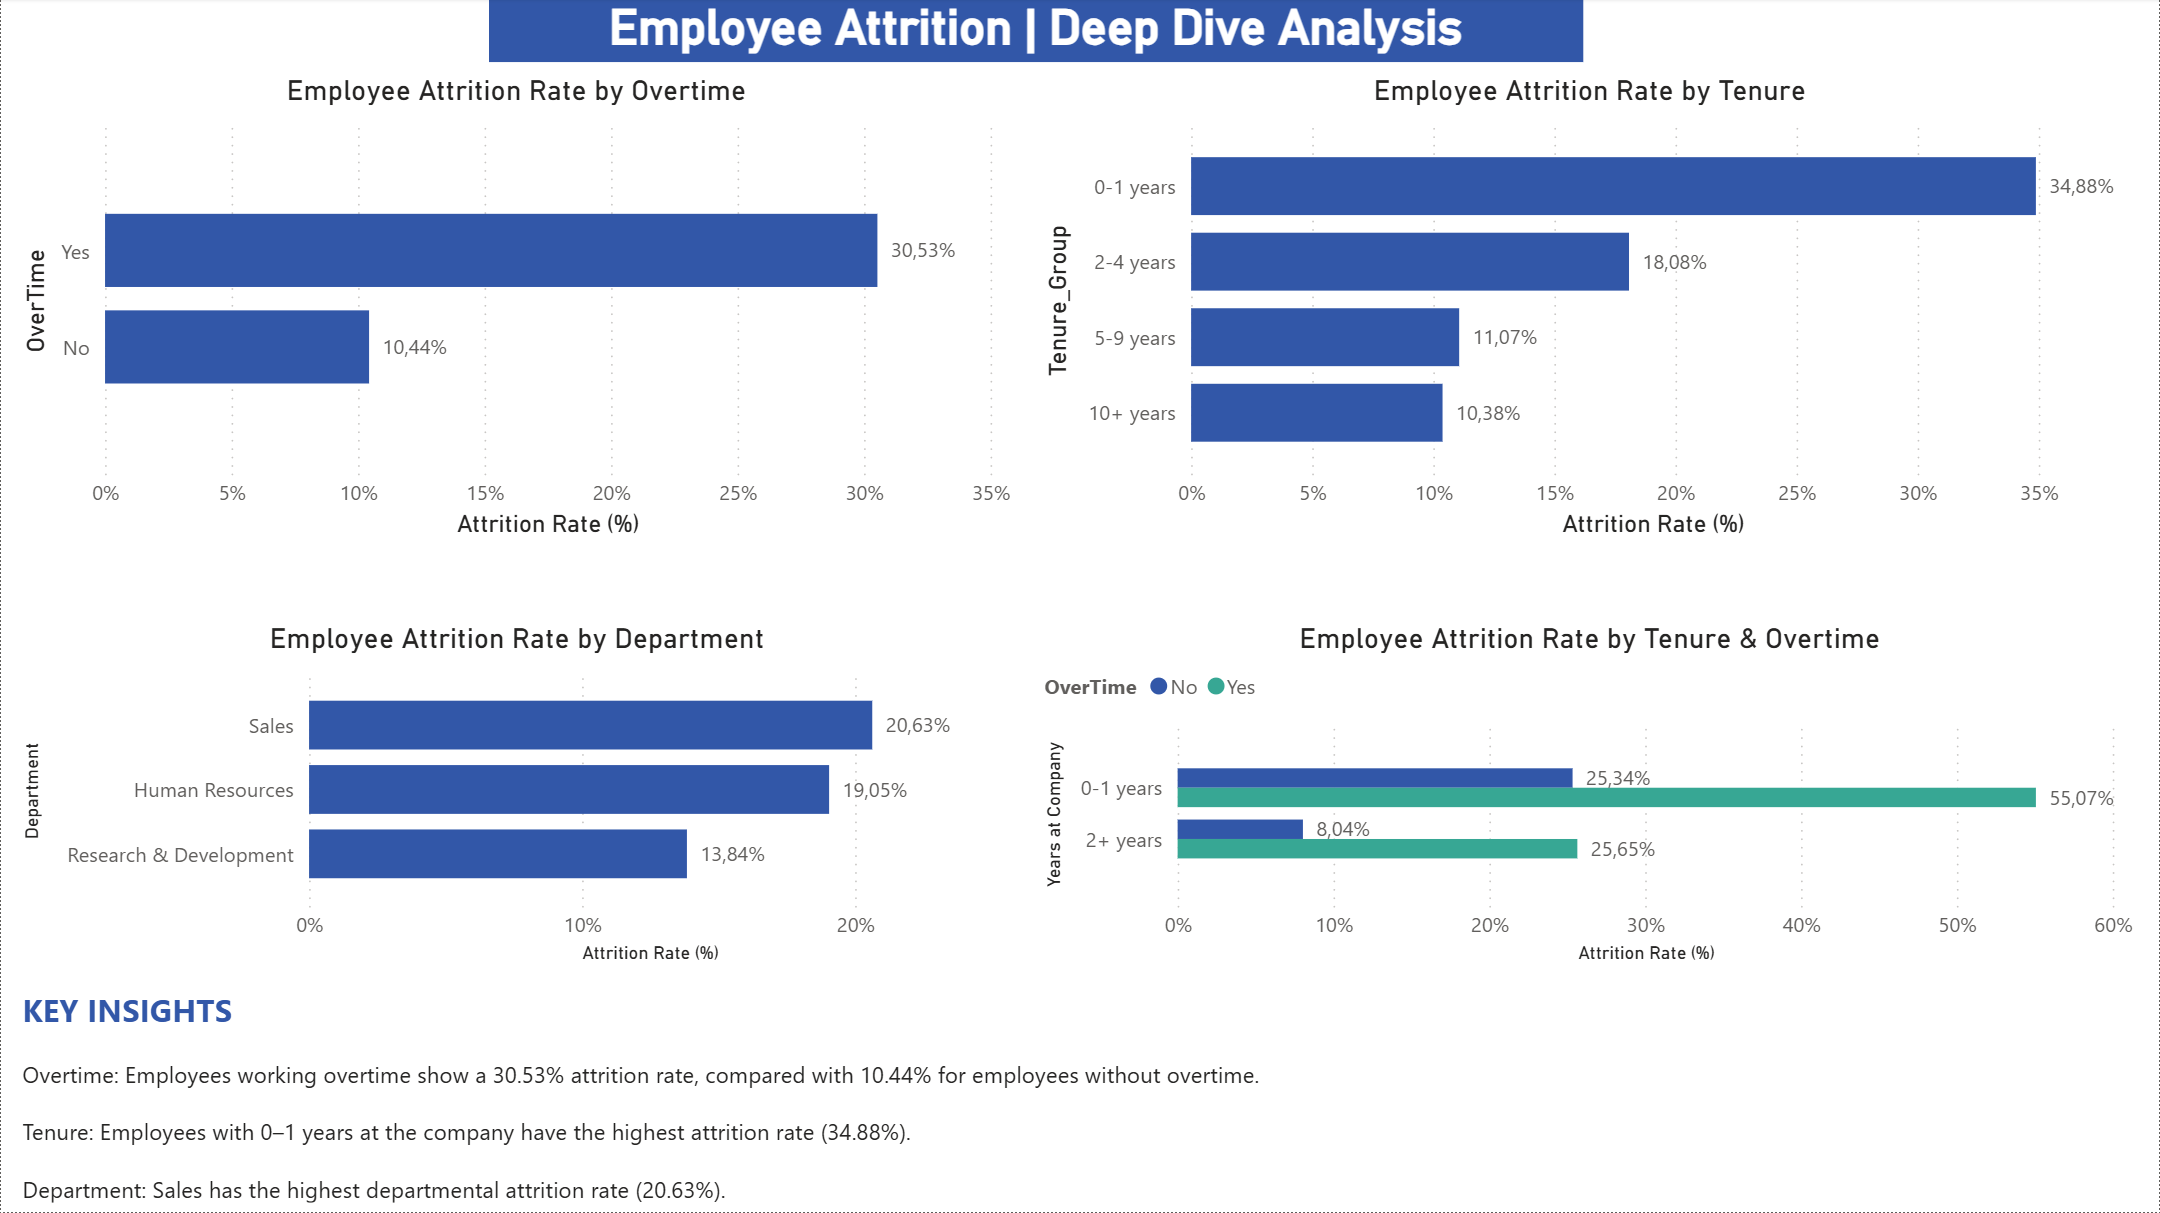

The page's visual inventory and layout, read from the dashboard file:
{"tool":"powerbi","page":{"name":"Attrition Deep Dive","canvas":[1280,720],"ordinal":1},"visuals":[{"type":"clusteredBarChart","title":"Employee Attrition Rate by Overtime","fields":{"Category":["HR_Final_Data.OverTime"],"Y":["HR_Final_Data.Attrition Rate (%)"]},"box":[7.9,44.5,596.2,280.1],"z":0},{"type":"clusteredBarChart","title":"Employee Attrition Rate by Tenure","fields":{"Category":["HR_Final_Data.Tenure_Group"],"Y":["HR_Final_Data.Attrition Rate (%)"]},"box":[613.8,44.5,657,280.1],"z":1000},{"type":"clusteredBarChart","title":"Employee Attrition Rate by Department","fields":{"Category":["HR_Final_Data.Department"],"Y":["HR_Final_Data.Attrition Rate (%)"]},"box":[7.9,369.7,596.8,207.4],"z":2000},{"type":"clusteredBarChart","title":"Employee Attrition Rate by Tenure & Overtime","fields":{"Category":["HR_Final_Data.Tenure_2Group"],"Series":["HR_Final_Data.OverTime"],"Y":["HR_Final_Data.Attrition Rate (%)"]},"box":[613.8,369.7,657,207.4],"z":3000},{"type":"shape","title":"Employee Attrition | Deep Dive Analysis","box":[289.5,0,648.7,38.4],"z":4000},{"type":"textbox","box":[7.9,582.4,1264.3,137.4],"z":5000}]}

Visuals, with their boxes in screenshot pixels (x1, y1, x2, y2), scaled from the page's 1280x720 canvas onto the 2160x1213 screenshot:
"Employee Attrition Rate by Overtime" clusteredBarChart: x1=13, y1=75, x2=1019, y2=547
"Employee Attrition Rate by Tenure" clusteredBarChart: x1=1036, y1=75, x2=2144, y2=547
"Employee Attrition Rate by Department" clusteredBarChart: x1=13, y1=623, x2=1020, y2=972
"Employee Attrition Rate by Tenure & Overtime" clusteredBarChart: x1=1036, y1=623, x2=2144, y2=972
"Employee Attrition | Deep Dive Analysis" shape: x1=489, y1=0, x2=1583, y2=65
textbox: x1=13, y1=981, x2=2147, y2=1212
